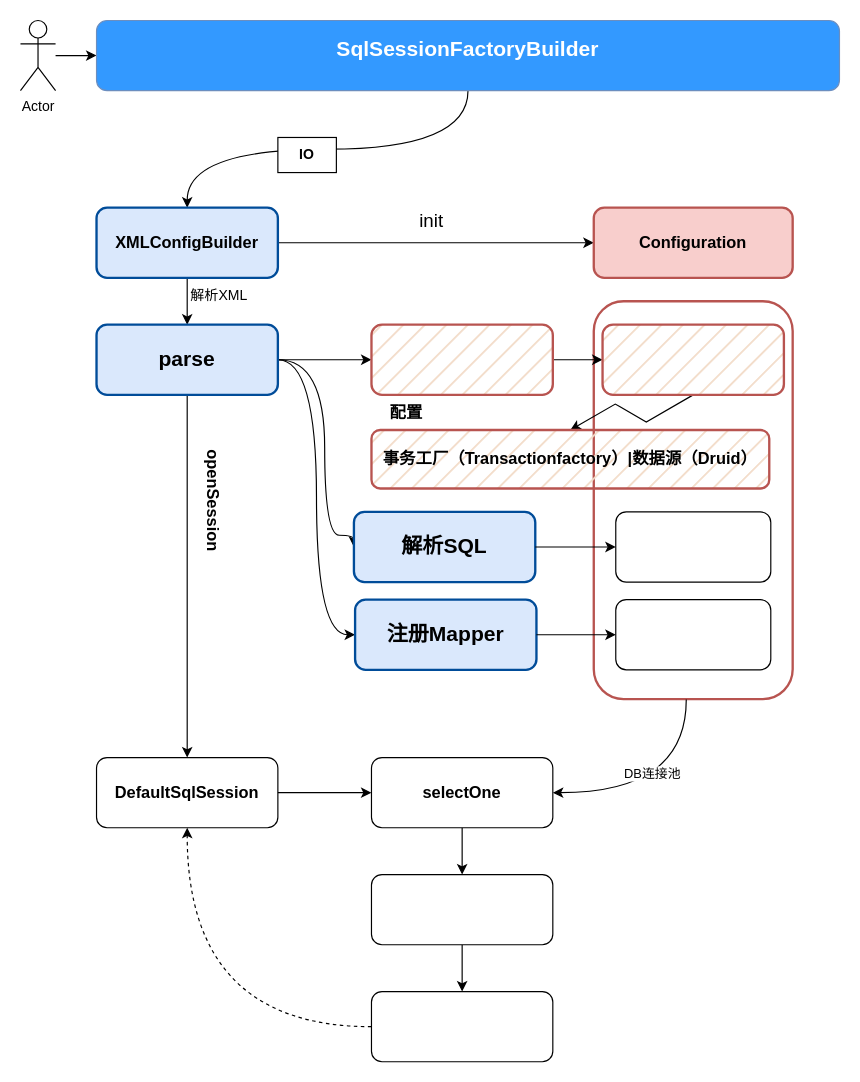
Some shapes in this 860 by 1082 pixel diagram are drawn without their labels. The centre of each missing label's shape, as x and y in pixels:
"Environment" belongs at point 692,359.
"MappedStatement" belongs at point 693,546.
"MapperRegistry" belongs at point 693,634.
"封装结果" belongs at point 461,1026.
"执行SQL" belongs at point 461,909.
"解析连接池" belongs at point 461,359.
